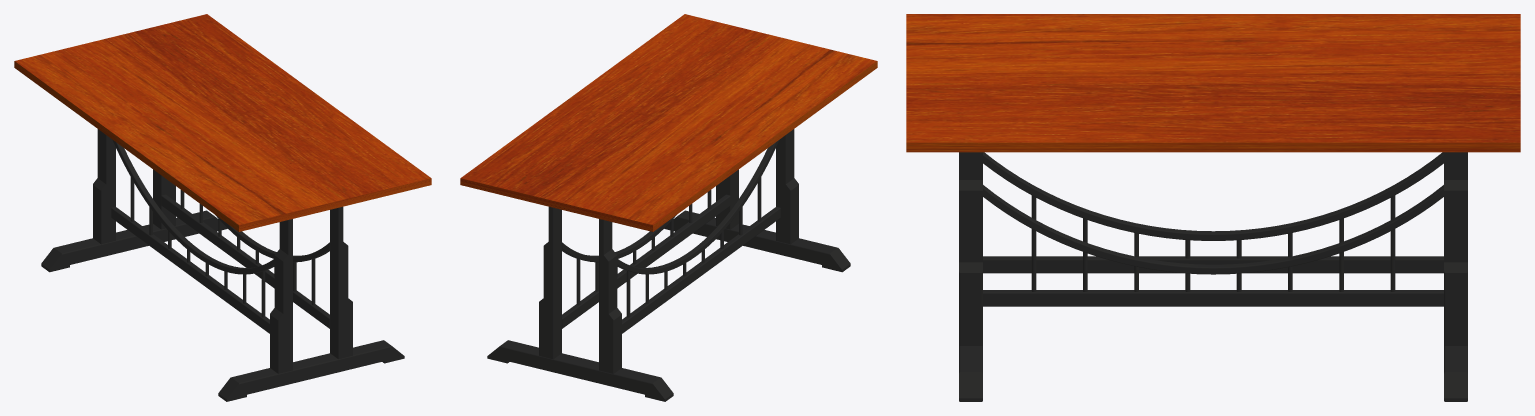
3 renders of one model, left to right at view 1: azimuth 30°, elevation 25°; view 2: azimuth 150°, elevation 25°; view 3: azimuth 270°, elevation 25°, orthographic. The views are drawn at different scales.
Visible parts, largest first — view 1: Cube, TOWEMOST_; view 2: Cube, TOWEMOST_; view 3: Cube, TOWEMOST_.
Boxes of the visible parts, bbox=[...] form: Cube: bbox=[14, 14, 431, 231]; TOWEMOST_: bbox=[41, 129, 404, 401]; Cube: bbox=[460, 14, 877, 231]; TOWEMOST_: bbox=[487, 129, 850, 401]; Cube: bbox=[906, 14, 1520, 152]; TOWEMOST_: bbox=[959, 152, 1467, 401].
Size of the model in its own units: 1.82 by 1.74 by 3.66.
Materials: 2 (1 with a texture image).
